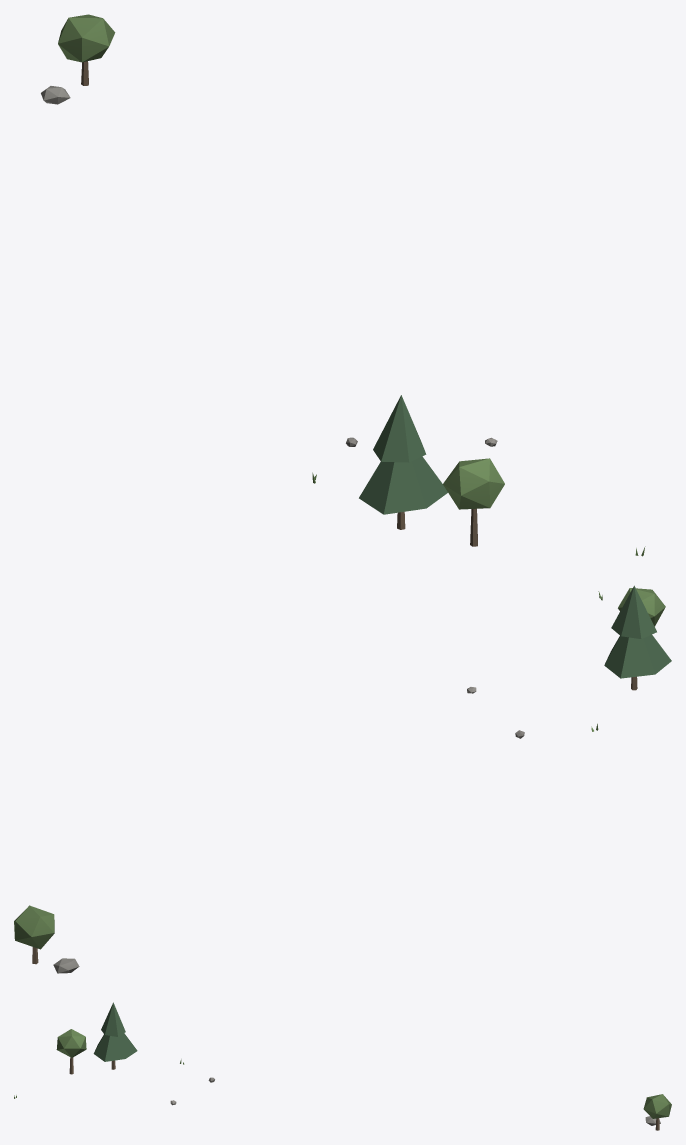
The model's file is arch_land_scatter_c22_18_lod1.glb.
3 renders of one model, top to bottom at view 1: azimuth 30°, elevation 25°; view 2: azimuth 150°, elevation 25°; view 3: azimuth 270°, elevation 25°, orthographic. The views are drawn at different scales.
Visible parts, largest first — view 1: arch_land_scatter_c22_18_lod1; view 2: arch_land_scatter_c22_18_lod1; view 3: arch_land_scatter_c22_18_lod1.
Boxes of the visible parts, x1,y1,x2,y2 form: arch_land_scatter_c22_18_lod1: (41,14,645,556); arch_land_scatter_c22_18_lod1: (14,585,671,973); arch_land_scatter_c22_18_lod1: (14,1002,671,1130).
Bounding box in the file's own units: 24.09 × 11.86 × 94.08.
